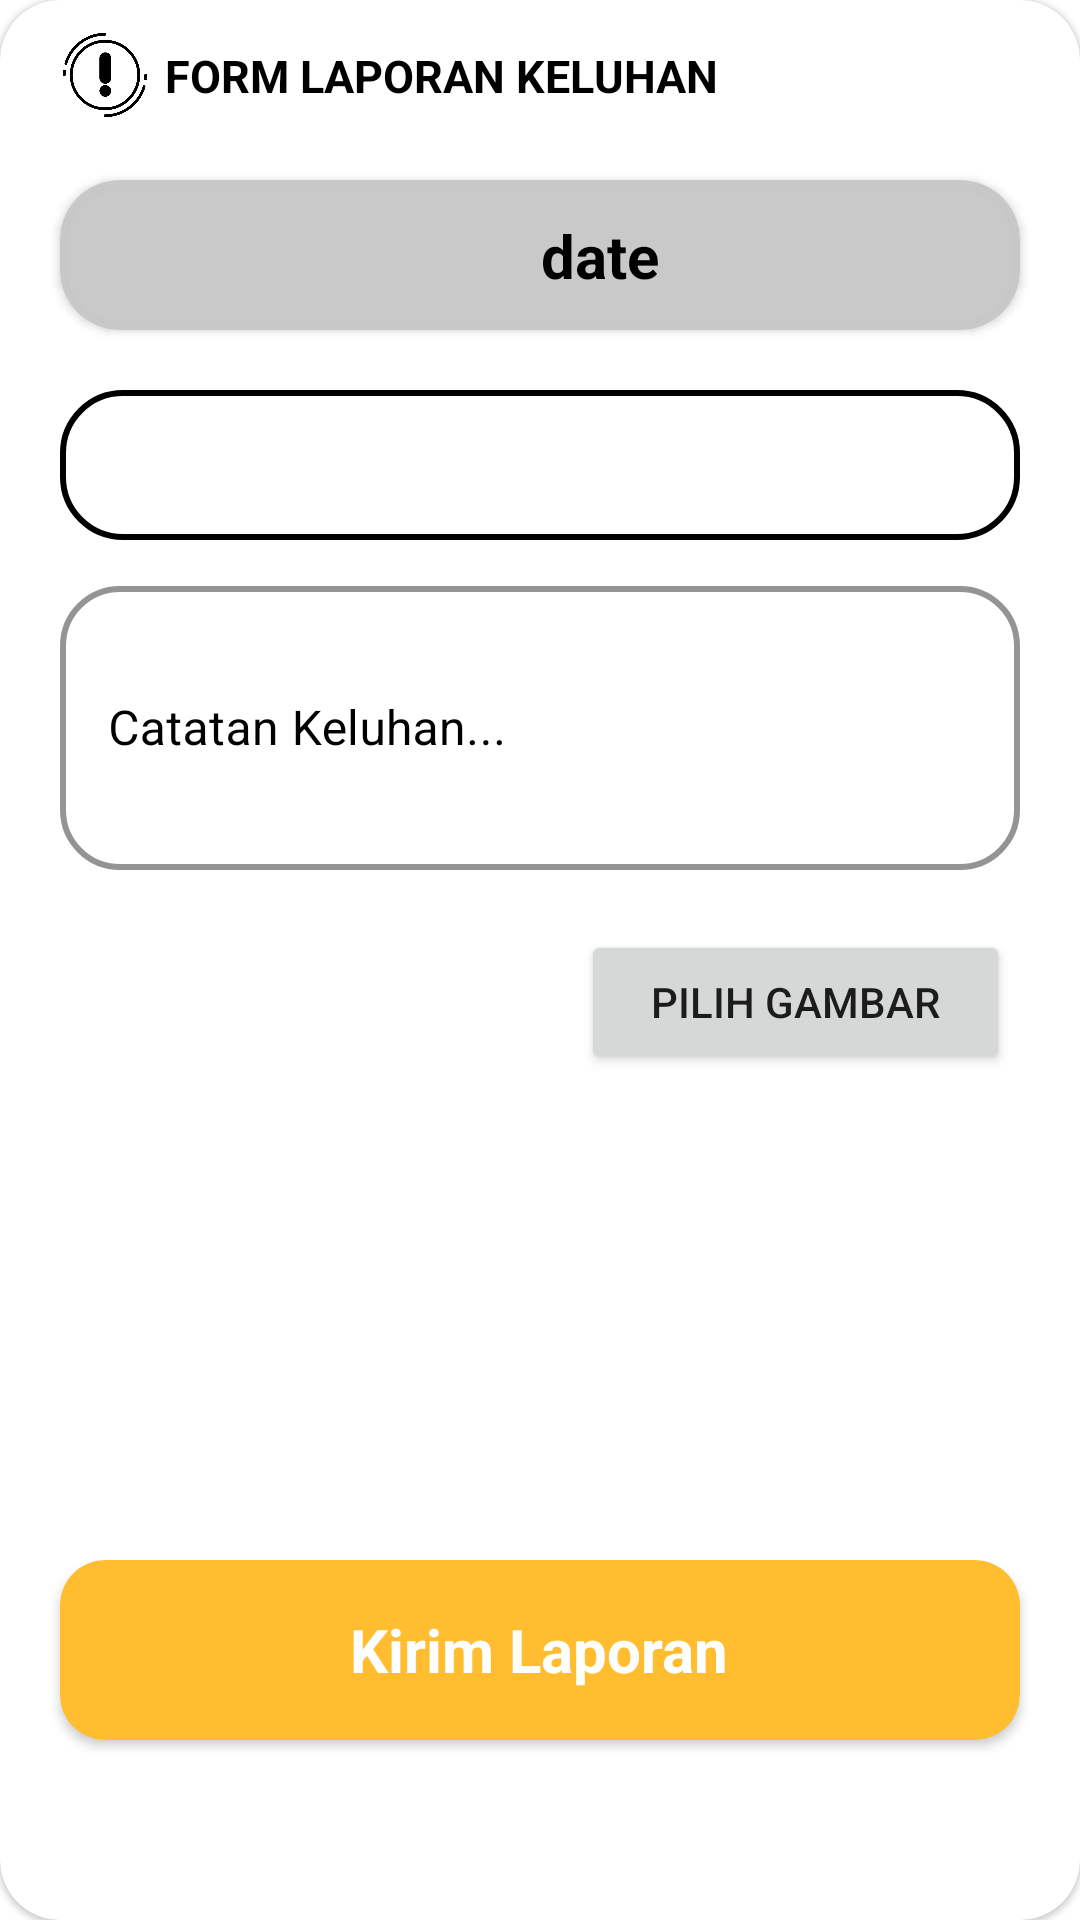

Icons on this 1080 x 1920 Android screen, each with the point to tap as (x,y):
exclamation: (105,75)
